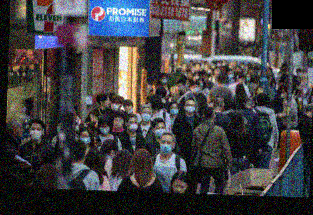mask_weared_incorrect: (122, 105, 132, 114)
with_mask: (159, 138, 173, 155), (28, 126, 42, 141), (78, 133, 91, 147), (153, 124, 166, 138), (126, 119, 139, 132), (183, 102, 196, 115), (139, 109, 151, 123), (108, 101, 120, 112), (98, 124, 110, 135), (169, 105, 179, 115), (176, 84, 185, 92), (160, 76, 168, 85), (191, 85, 199, 94), (226, 71, 234, 80), (279, 91, 288, 99), (56, 123, 62, 133), (245, 75, 251, 82)
without_mask: (172, 178, 187, 193), (113, 117, 124, 129), (15, 124, 22, 138), (102, 97, 110, 108)
